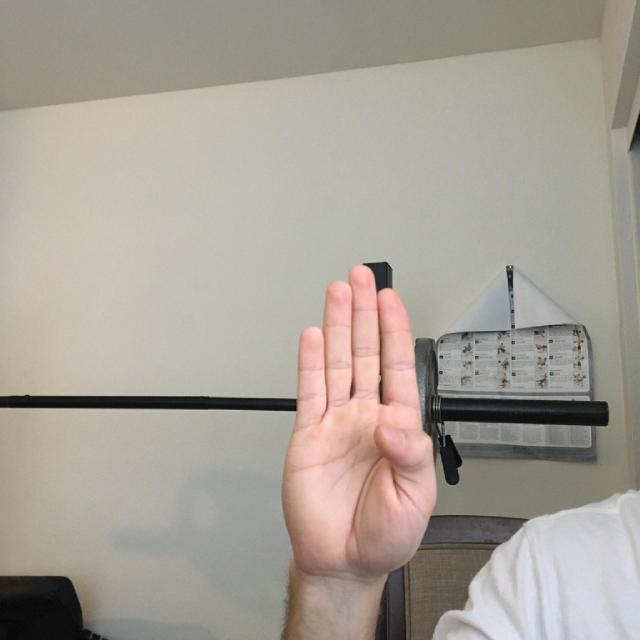B: (242, 247, 459, 614)
